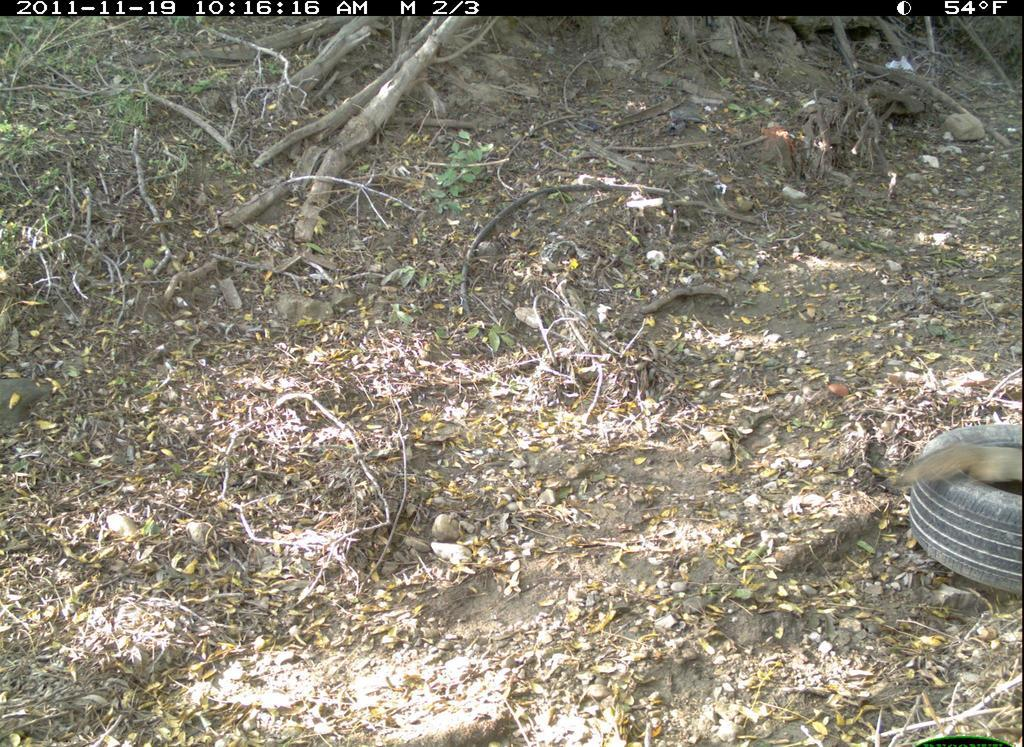squirrel: (885, 435, 1022, 495)
